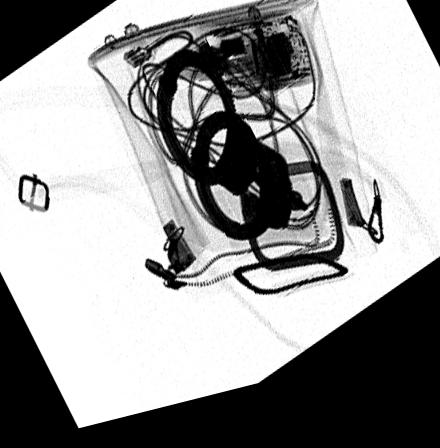HandCuffs: (155, 50, 308, 257)
